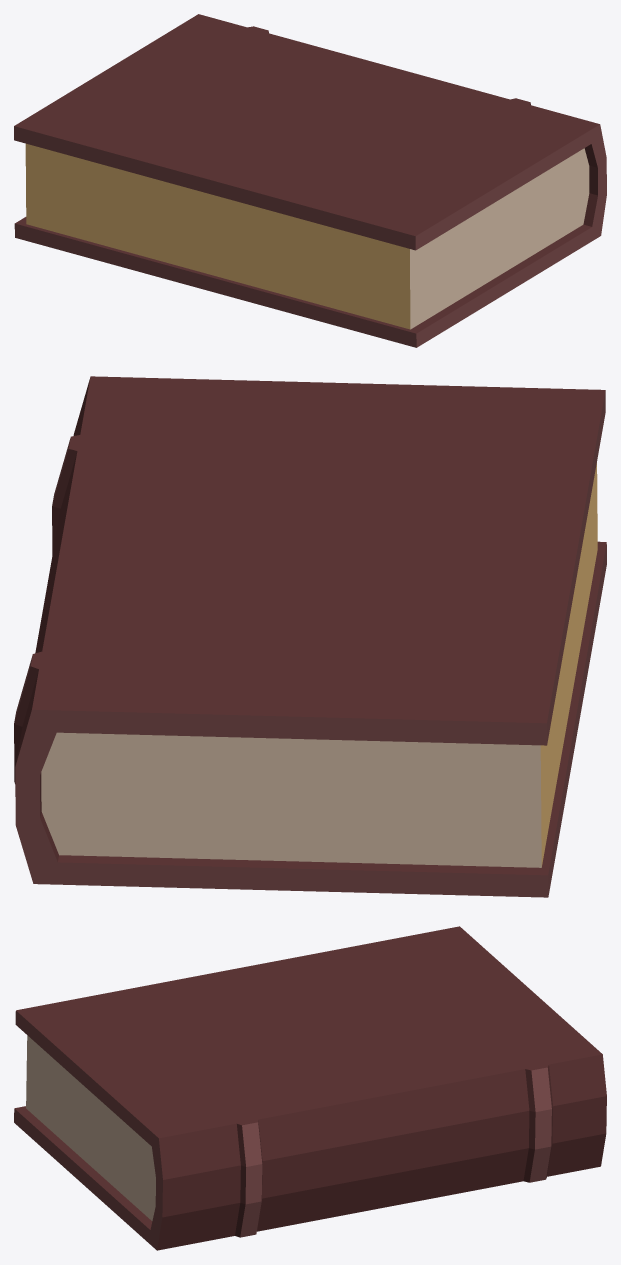
File: Puzzle04_Book2.glb
3 renders of one model, top to bottom at view 1: azimuth 30°, elevation 25°; view 2: azimuth 150°, elevation 25°; view 3: azimuth 270°, elevation 25°, orthographic. The views are drawn at different scales.
Visible parts, largest first — view 1: Puzzle04_Book2; view 2: Puzzle04_Book2; view 3: Puzzle04_Book2.
Boxes of the visible parts, <box> form: Puzzle04_Book2: <box>14,14,606,347</box>; Puzzle04_Book2: <box>14,376,606,897</box>; Puzzle04_Book2: <box>14,926,606,1250</box>.
Size of the model in its own units: 0.7842 by 0.1997 by 0.8923.
1 material, 1 textured.
